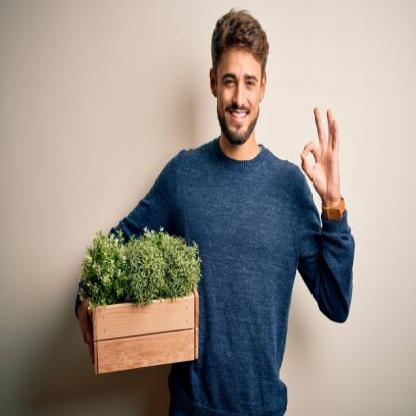ok: (296, 98, 346, 201)
